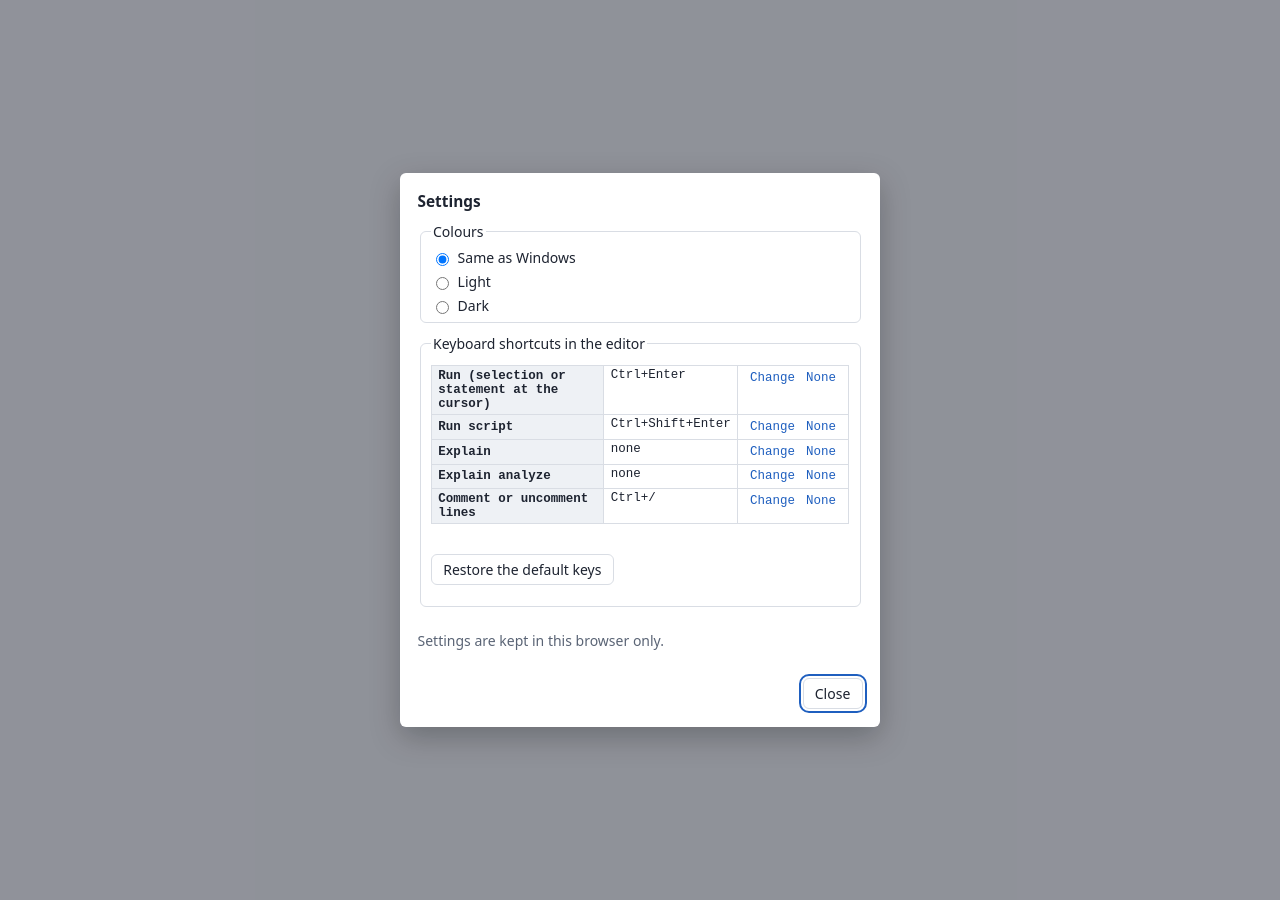
Test: settings: colour theme (admin Phase 12) › says when the browser does not keep settings
The image size is (1280, 900).
Click the radio button labelled "Light": (442, 283) [436,277,449,290]
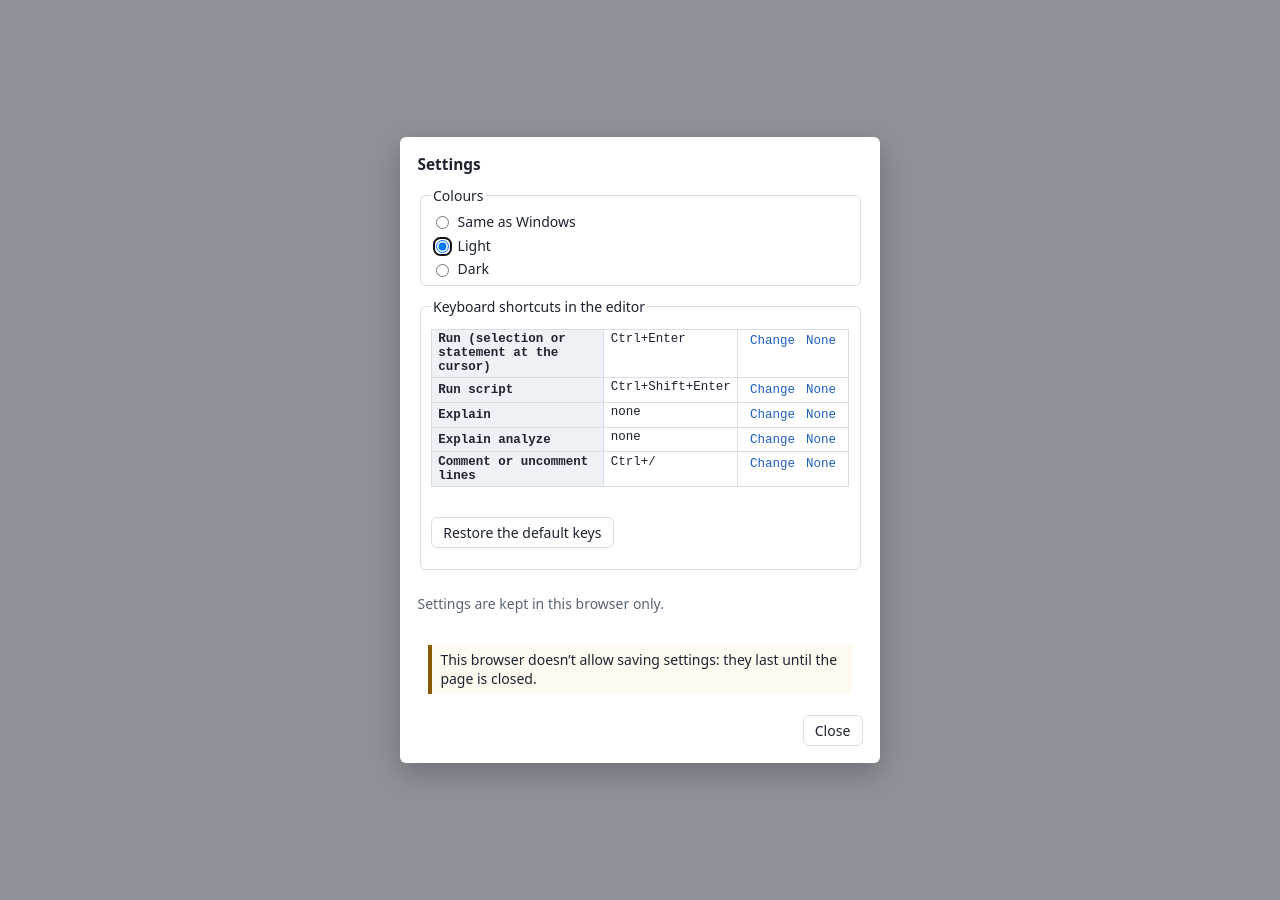
Result: the message shows "last until the page is closed" at [440,650,837,688]
